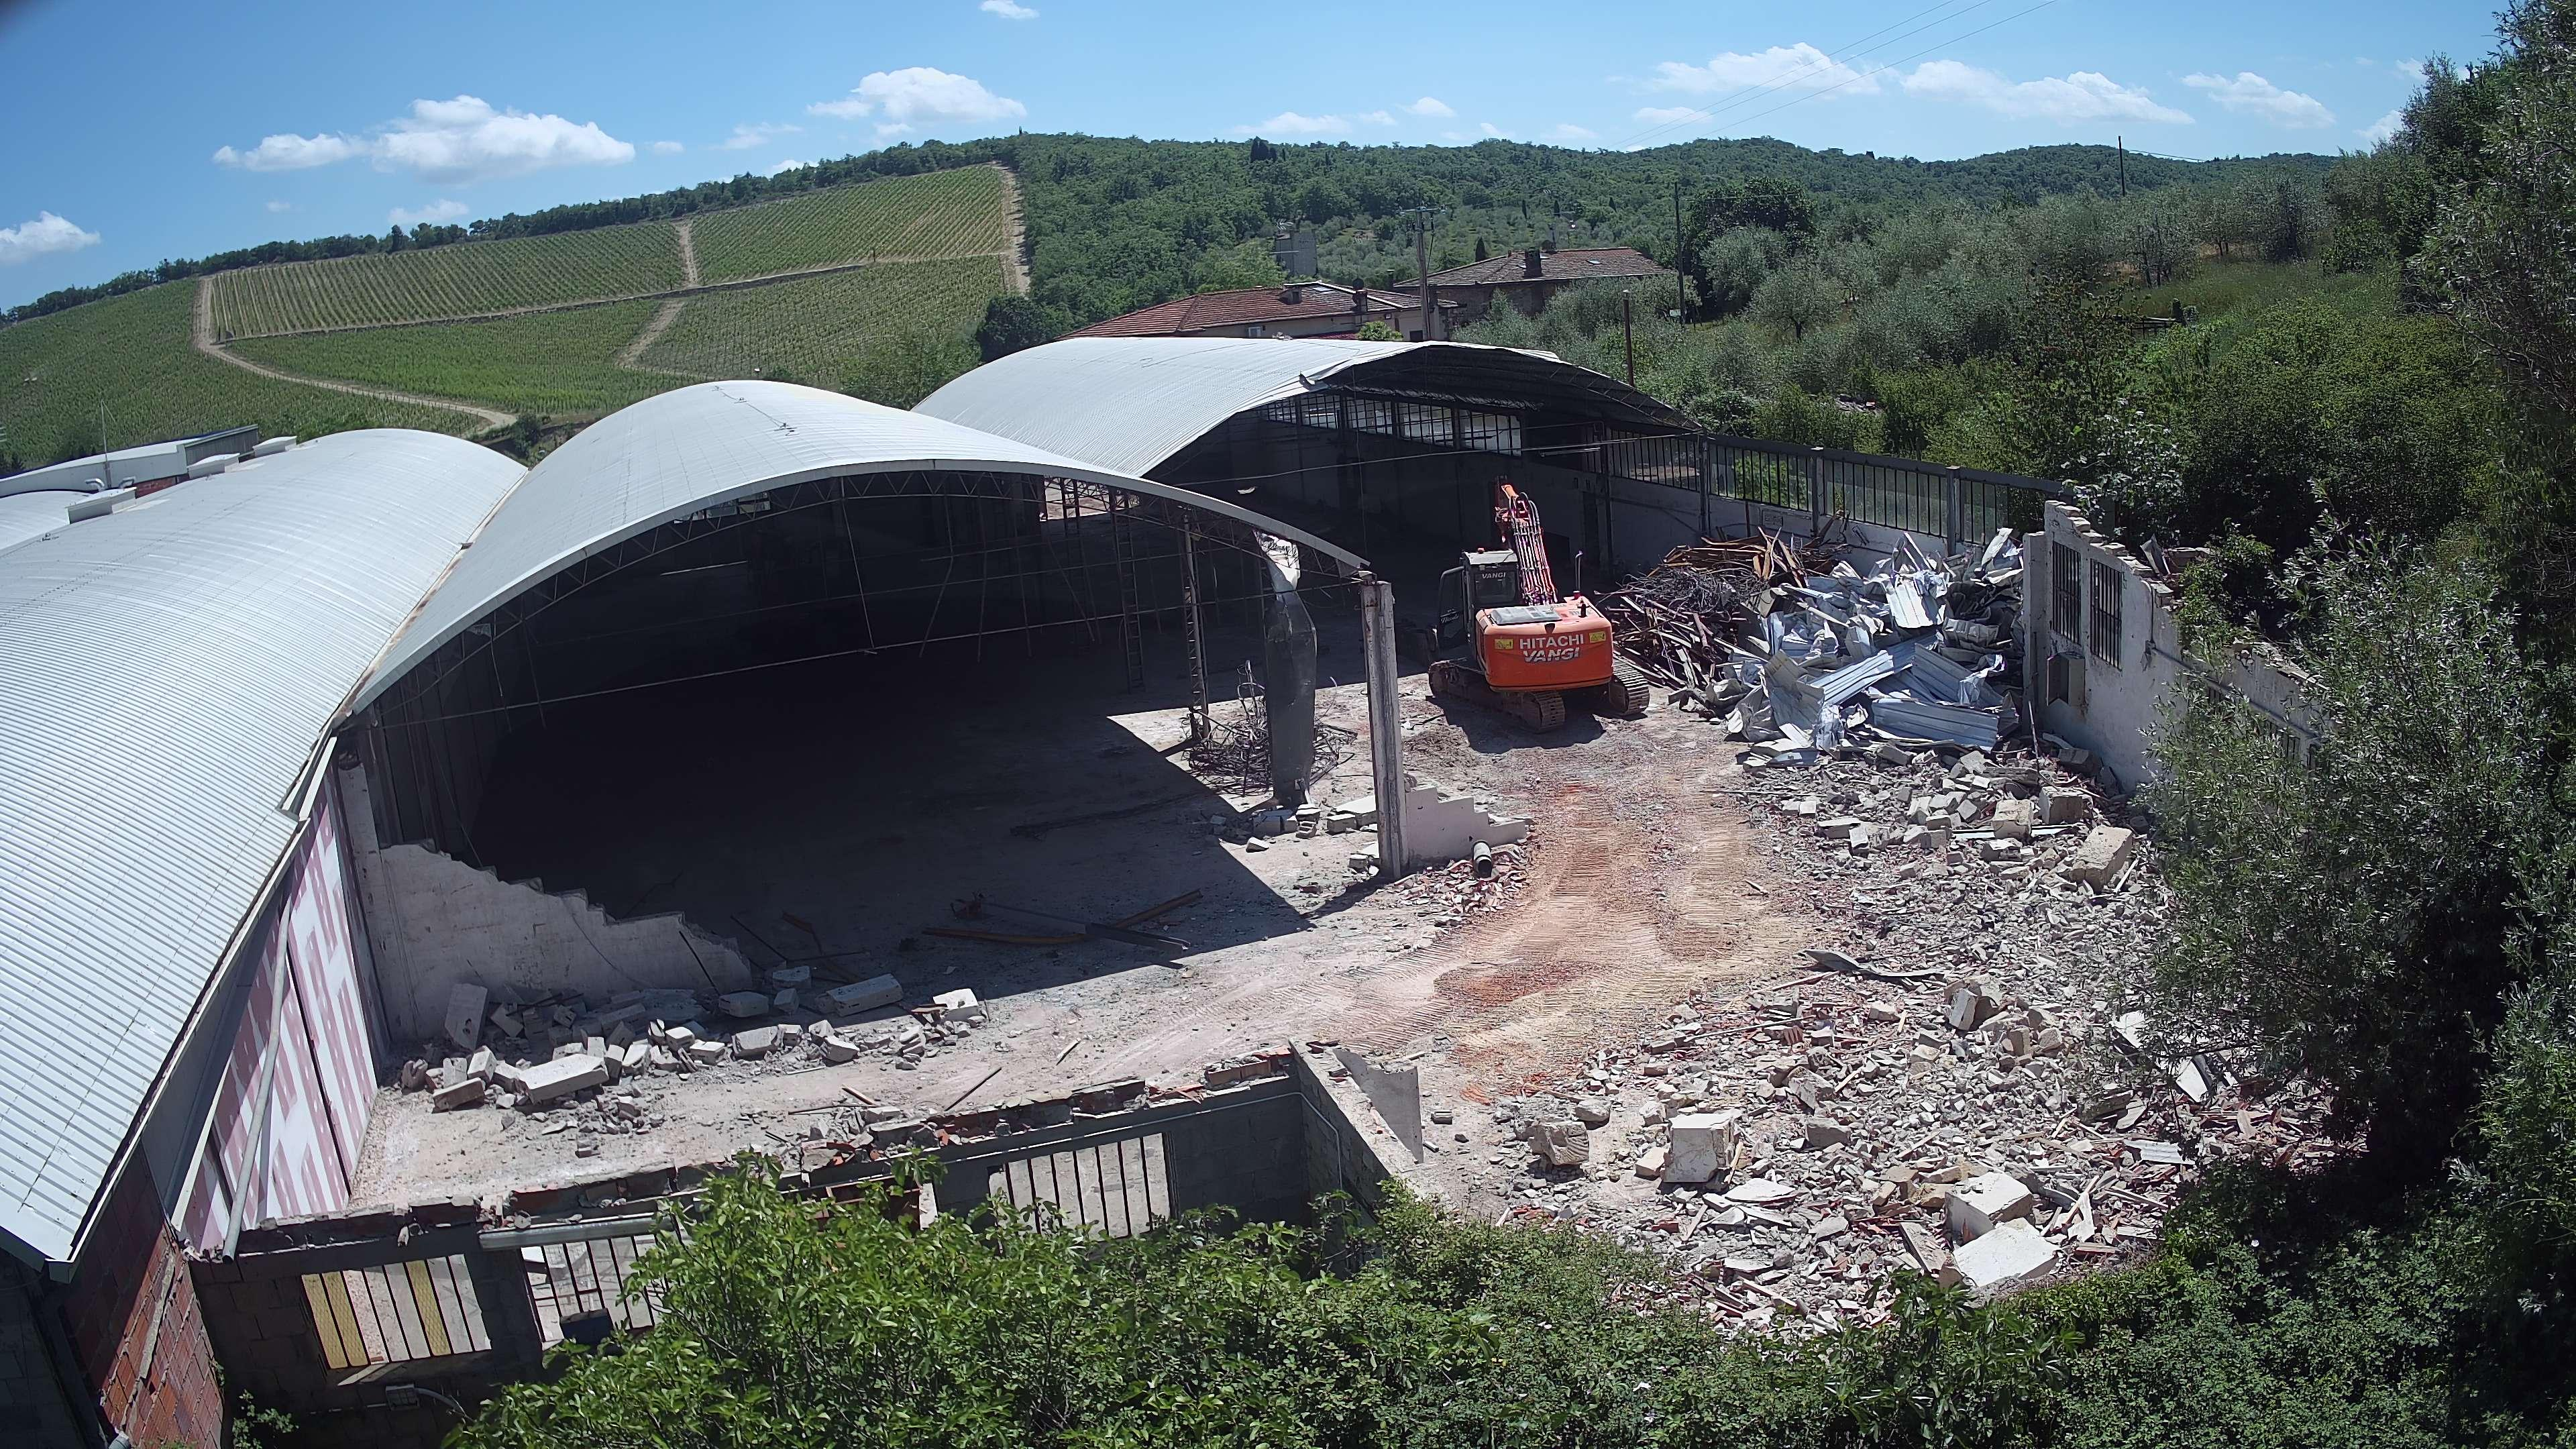excavator: (1428, 472, 1649, 732)
